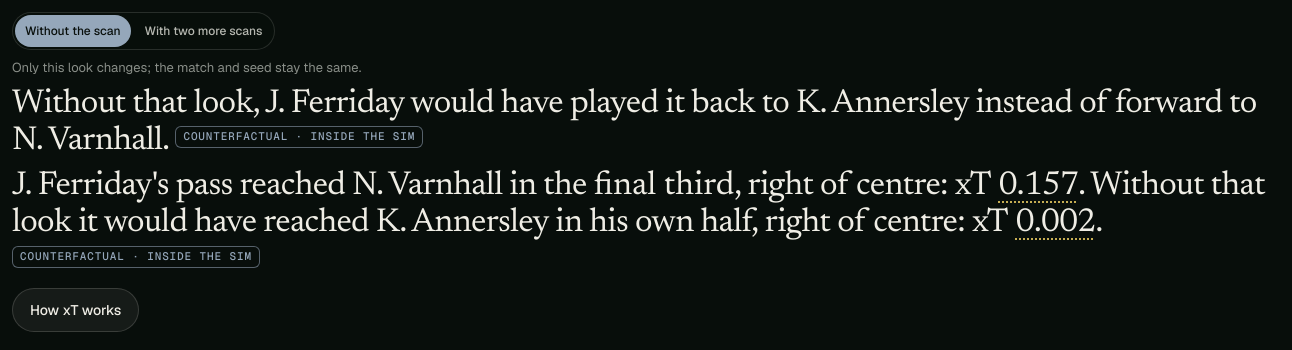
Test: in the verdict › names as many looks as the bundle added, and keeps the switch when the panel remounts
The image size is (1292, 350).
Click the button "With two more scans".
click(204, 31)  # box [135, 15, 272, 47]
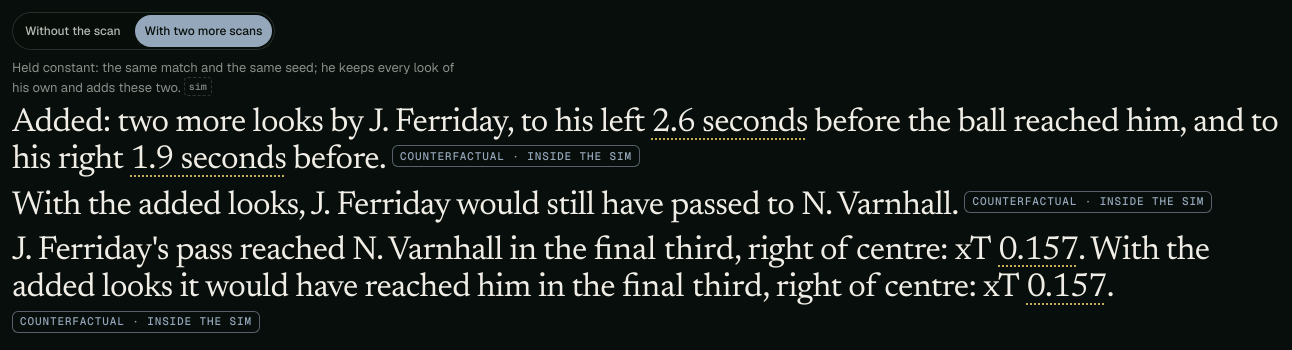
Now the text "Added: two more looks by J. Ferriday, to his left 2.6 seconds before the ball reached him, and to his right 1.9 seconds before." is shown, box [12, 105, 1291, 180]
